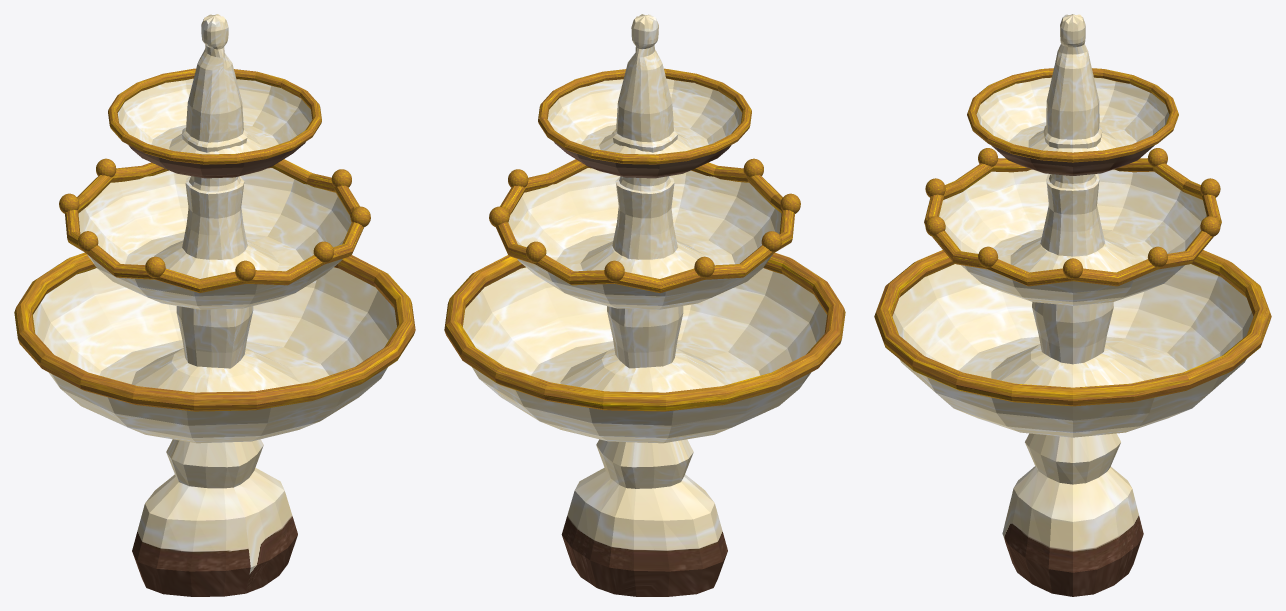
The picture shows the model from 3 angles, left to right: view 1: azimuth 30°, elevation 25°; view 2: azimuth 150°, elevation 25°; view 3: azimuth 270°, elevation 25°; orthographic projection.
Parts seen in each view (by area): view 1: 裝水; view 2: 裝水; view 3: 裝水.
Part boxes in pixels (x1,y1,x2,y2): 裝水: (14,14,415,596); 裝水: (444,14,845,596); 裝水: (874,14,1271,596).
Size of the model in its own units: 250 by 381 by 250.
Materials: 6 (6 with a texture image).
